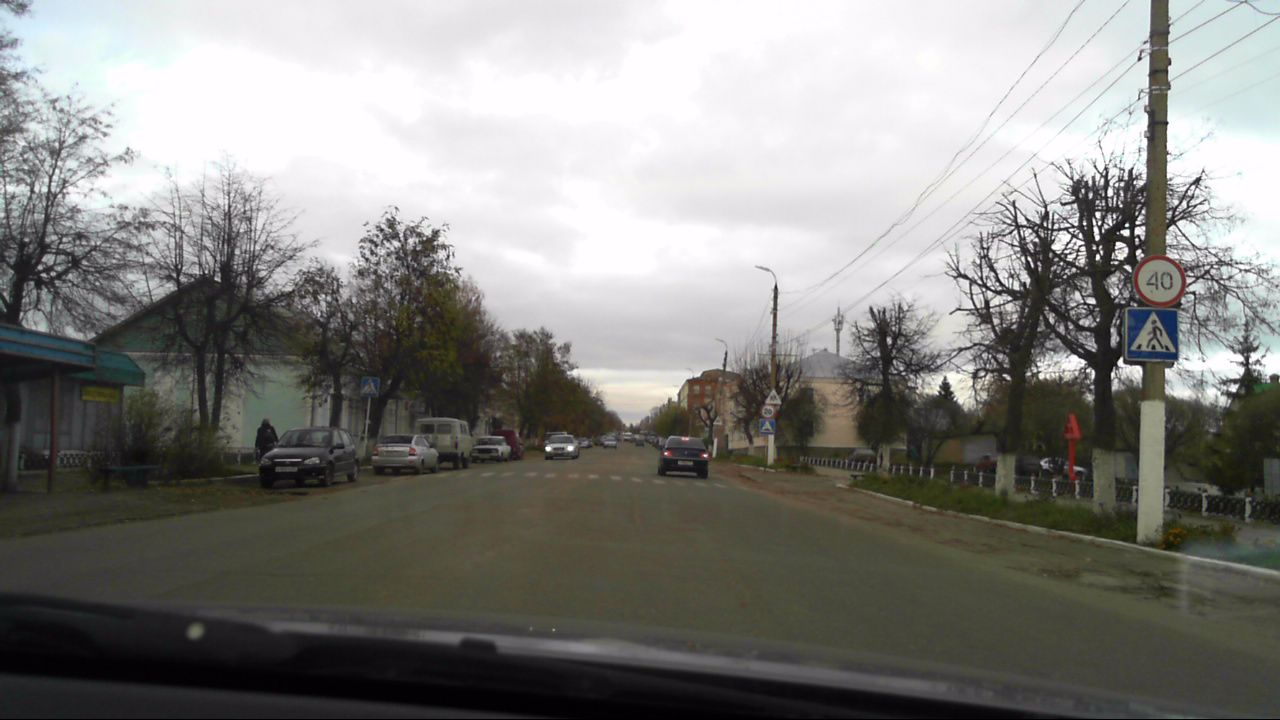speed_warning_40: (1130, 256, 1186, 309)
